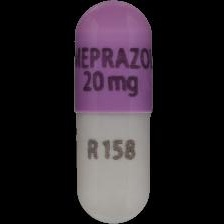75921-158: (0, 0, 224, 224)
